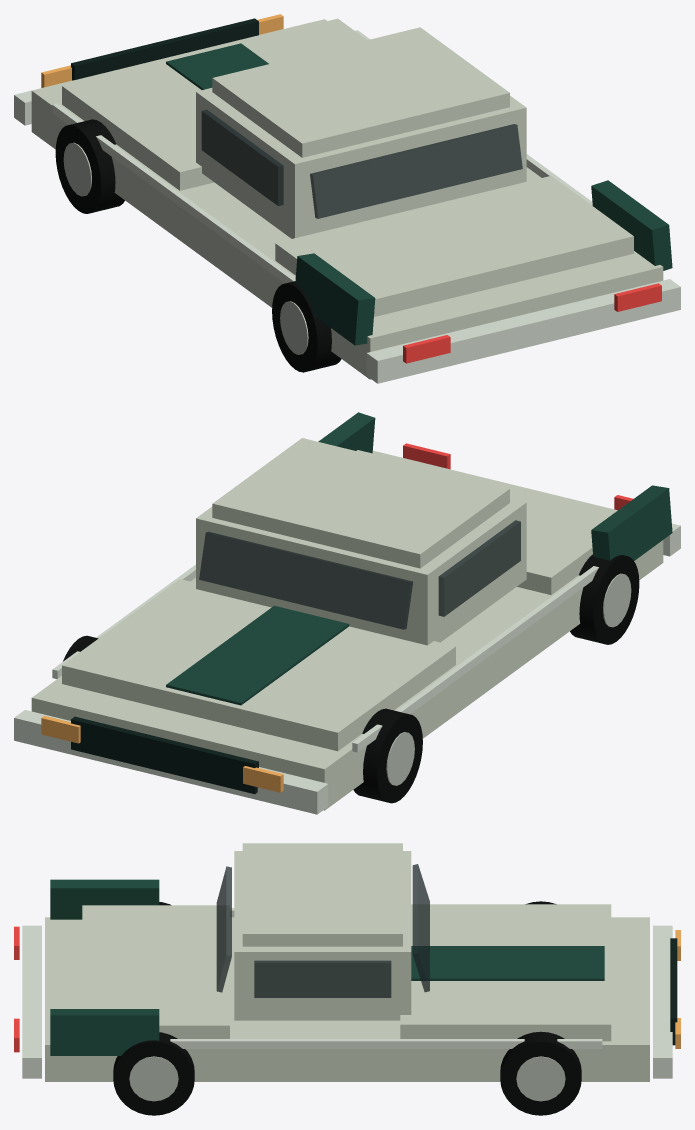
File: classic-cruiser-mobile-v1.glb
3 renders of one model, top to bottom at view 1: azimuth 30°, elevation 25°; view 2: azimuth 150°, elevation 25°; view 3: azimuth 270°, elevation 25°, orthographic. The views are drawn at different scales.
Visible parts, largest first — view 1: cabin block, trunk deck, roof, long lower body, wide hood, rear window, rear bumper, tire (×2), left rear fin, left side glass, grille, right rear fin (+6 smaller); view 2: wide hood, cabin block, roof, long lower body, windshield, hood stripe, tire (×2), trunk deck, grille, front bumper, left rear fin, left side glass (+7 smaller); view 3: long lower body, wide hood, trunk deck, roof, cabin block, tire (×2), hood stripe, right side glass, right rear fin, right chrome beltline, rim (×2), left rear fin (+5 smaller).
Part boxes in pixels (x1=…): cabin block: x1=196, y1=88, x2=526, y2=238; trunk deck: x1=275, y1=176, x2=633, y2=316; roof: x1=212, y1=27, x2=509, y2=157; long lower body: x1=31, y1=19, x2=663, y2=379; wide hood: x1=62, y1=18, x2=366, y2=190; rear window: x1=310, y1=124, x2=522, y2=218; rear bumper: x1=366, y1=279, x2=680, y2=383; tire (×2): x1=55, y1=119, x2=341, y2=372; left rear fin: x1=295, y1=253, x2=375, y2=345; left side glass: x1=201, y1=109, x2=283, y2=206; grille: x1=71, y1=18, x2=258, y2=80; right rear fin: x1=591, y1=180, x2=672, y2=270; wide hood: x1=62, y1=579, x2=455, y2=751; cabin block: x1=196, y1=498, x2=526, y2=645; roof: x1=212, y1=438, x2=509, y2=568; long lower body: x1=31, y1=450, x2=663, y2=810; windshield: x1=199, y1=531, x2=413, y2=629; hood stripe: x1=166, y1=605, x2=349, y2=705; tire (×2): x1=353, y1=554, x2=639, y2=803; trunk deck: x1=356, y1=450, x2=614, y2=594; grille: x1=71, y1=716, x2=258, y2=794; front bumper: x1=14, y1=710, x2=328, y2=814; left rear fin: x1=591, y1=485, x2=672, y2=560; left side glass: x1=438, y1=520, x2=520, y2=616; long lower body: x1=45, y1=917, x2=649, y2=1081; wide hood: x1=400, y1=904, x2=611, y2=1041; trunk deck: x1=82, y1=905, x2=229, y2=1038; roof: x1=242, y1=843, x2=402, y2=946; cabin block: x1=234, y1=851, x2=411, y2=1020; tire (×2): x1=113, y1=1031, x2=581, y2=1115; hood stripe: x1=411, y1=946, x2=604, y2=980; right side glass: x1=254, y1=960, x2=391, y2=997; right rear fin: x1=50, y1=1009, x2=159, y2=1055; right chrome beltline: x1=170, y1=1039, x2=602, y2=1048; rim (×2): x1=129, y1=1056, x2=565, y2=1101; left rear fin: x1=50, y1=879, x2=159, y2=919.
Bounding box in the file's own units: 4.27 × 2.21 × 8.53.
